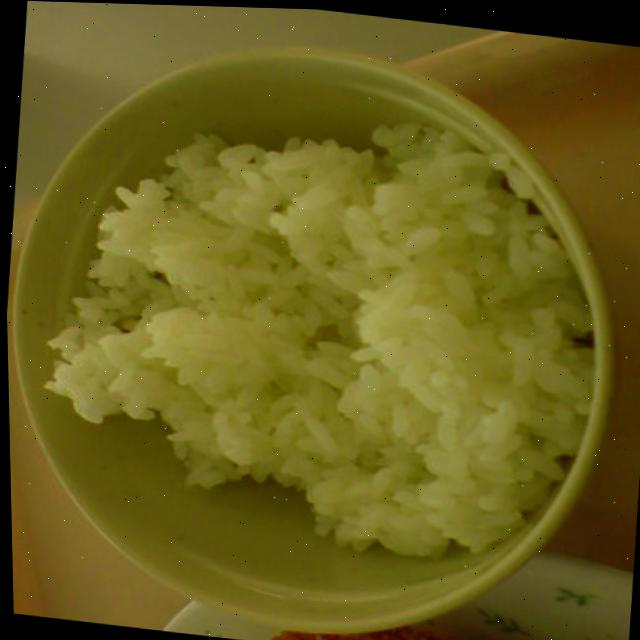米饭主食: (0, 15, 630, 640)
